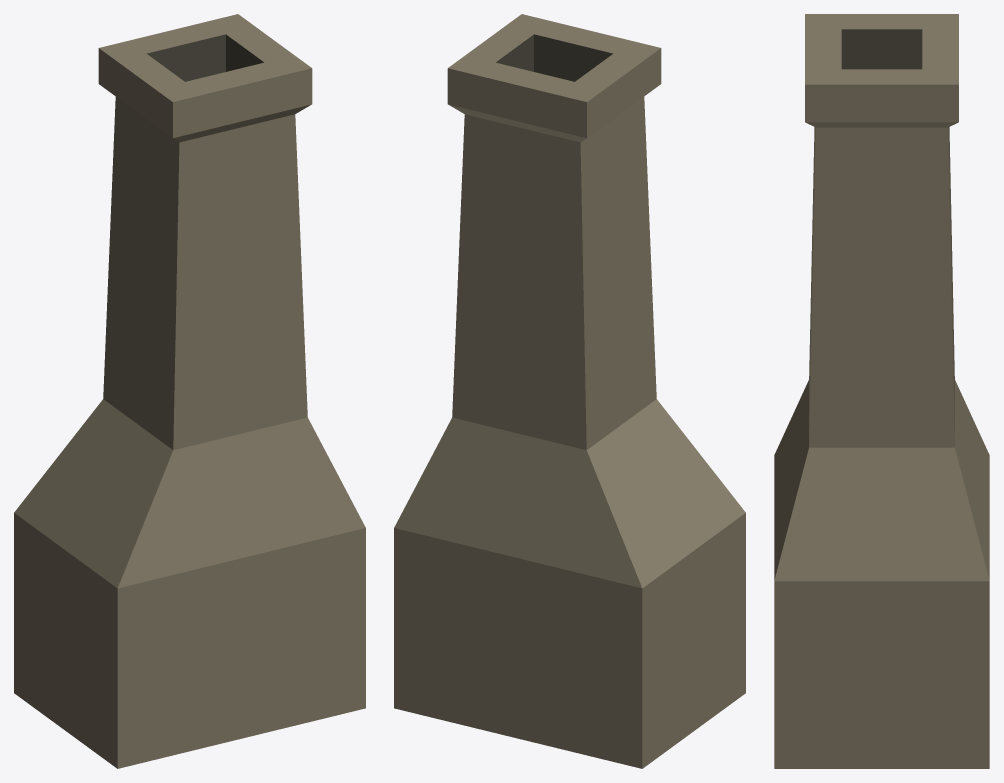
File: shouldered_chimney.glb
3 views of the same model, side by side, from view 1: azimuth 30°, elevation 25°; view 2: azimuth 150°, elevation 25°; view 3: azimuth 270°, elevation 25° (orthographic). The views are drawn at different scales.
Visible parts, largest first — view 1: Shouldered chimney; view 2: Shouldered chimney; view 3: Shouldered chimney.
Boxes of the visible parts, x1,y1,x2,y2 form: Shouldered chimney: [14, 14, 365, 768]; Shouldered chimney: [394, 14, 745, 768]; Shouldered chimney: [774, 14, 989, 768].
Size of the model in its own units: 0.72 by 1.77 by 0.52.
